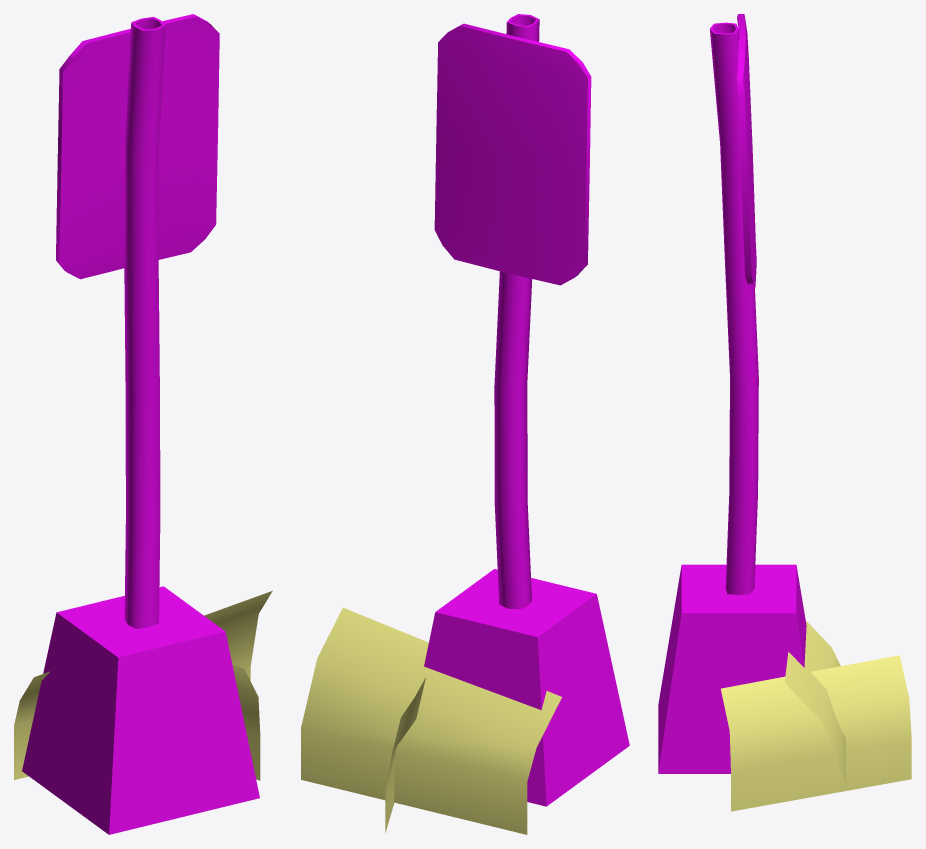
Rendered from sign.FBX.
3 renders of one model, left to right at view 1: azimuth 30°, elevation 25°; view 2: azimuth 150°, elevation 25°; view 3: azimuth 270°, elevation 25°, orthographic. The views are drawn at different scales.
Visible parts, largest first — view 1: StopSign; view 2: StopSign; view 3: StopSign.
Boxes of the visible parts, bbox=[...] form: StopSign: bbox=[14, 14, 272, 834]; StopSign: bbox=[301, 14, 629, 834]; StopSign: bbox=[658, 14, 911, 811].
Size of what is drawn, in the model's own units: 15.63 by 47.87 by 15.06.
